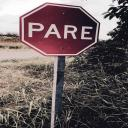Pare: (17, 2, 102, 58)
